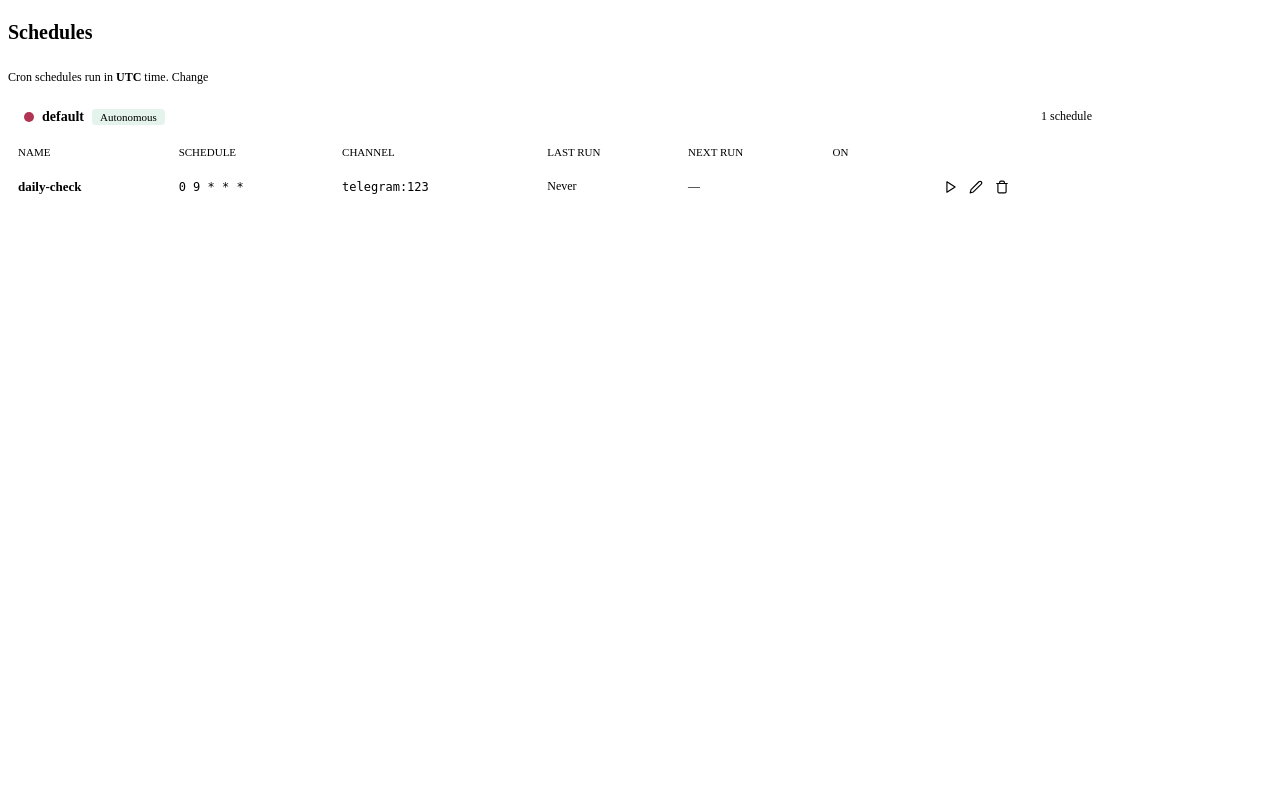
Test case: Schedules page › delete shows confirmation modal
Click the button named "Delete daily-check": (1002, 187) [991, 176, 1013, 198]
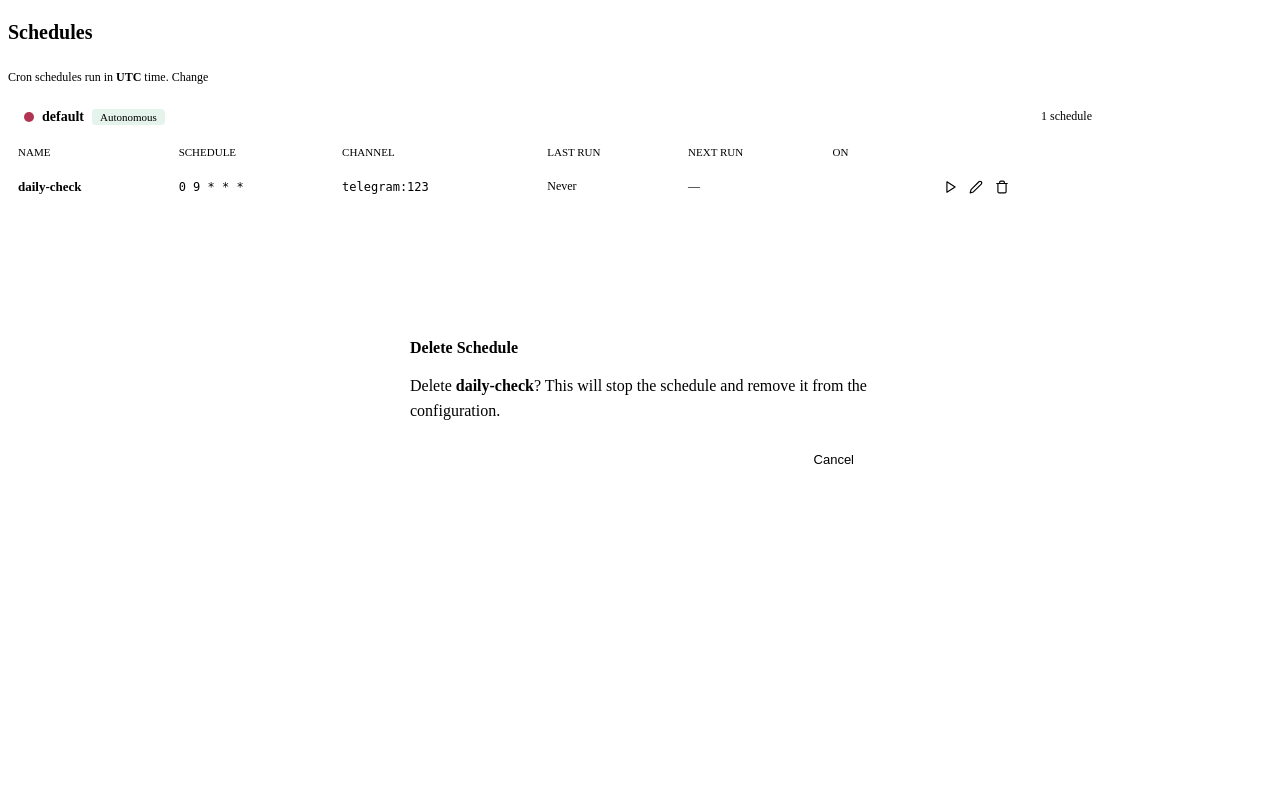
Check: the heading "Delete Schedule" is shown, box [410, 338, 518, 356]
Check: the element with class "confirm-modal" shows "daily-check", box [456, 376, 534, 394]
